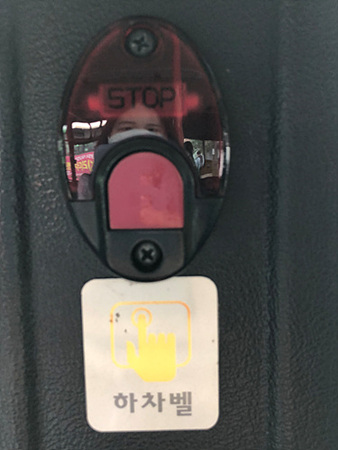bell: (54, 16, 234, 281)
